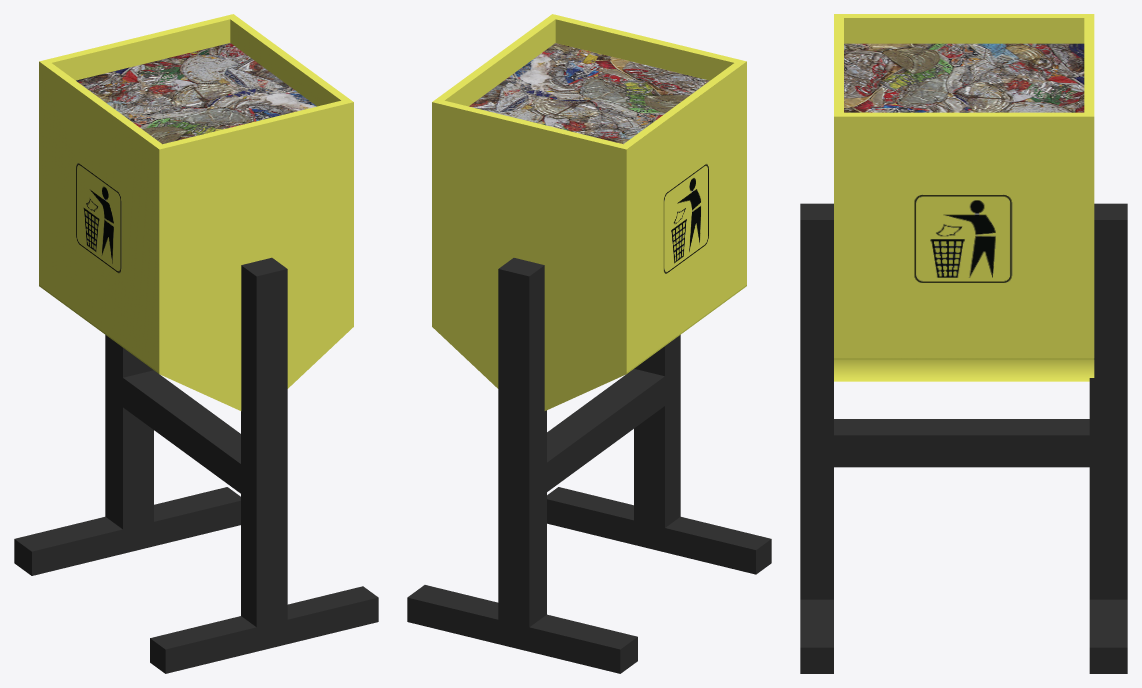
Rendered from trashcan.obj.
The picture shows the model from 3 angles, left to right: view 1: azimuth 30°, elevation 25°; view 2: azimuth 150°, elevation 25°; view 3: azimuth 270°, elevation 25°; orthographic projection. The views are drawn at different scales.
Parts seen in each view (by area): view 1: trashcan; view 2: trashcan; view 3: trashcan.
Part boxes in pixels (left/top/right/bottom): trashcan: left=14, top=14, right=378, bottom=673; trashcan: left=407, top=14, right=771, bottom=673; trashcan: left=800, top=14, right=1127, bottom=673.
Size of the model in its own units: 34.06 by 78.03 by 41.86.
1 material, 1 textured.
